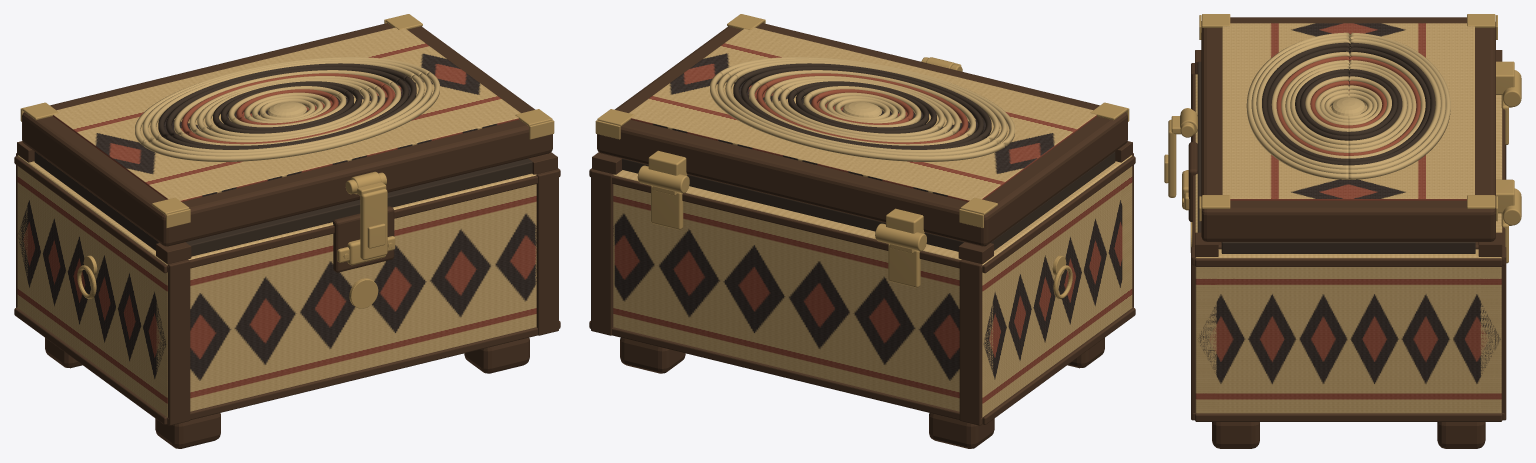
File: burundi.glb
The picture shows the model from 3 angles, left to right: view 1: azimuth 30°, elevation 25°; view 2: azimuth 150°, elevation 25°; view 3: azimuth 270°, elevation 25°; orthographic projection. The views are drawn at different scales.
Visible parts, largest first — view 1: Woven panel / front, Lid / polished slab, Lid / woven inset, Woven panel / side, Reveal / long, Frame / corner binding, Frame / corner binding.002, Frame / long binding, Lid coil / 00, Frame / long binding.002, Lid coil / 01, Lid coil / 02 (+23 smaller); view 2: Woven panel / rear, Lid / polished slab, Lid / woven inset, Woven panel / side, Frame / corner binding.001, Frame / corner binding.003, Frame / long binding.001, Lid coil / 00, Reveal / long.001, Frame / long binding.003, Lid coil / 01, Lid coil / 02 (+26 smaller); view 3: Woven panel / side.001, Lid / woven inset, Lid / polished slab, Woven panel / rear, Woven panel / front, Reveal / side.001, Lid coil / 00, Frame / end binding.001, Frame / end binding.003, Lid coil / 01, Lid coil / 02, Lid coil / 03 (+33 smaller).
Boxes of the visible parts, box(x1,y1,x2,y2) form: Woven panel / front: box(156, 173, 536, 417); Lid / polished slab: box(22, 23, 552, 246); Lid / woven inset: box(53, 27, 520, 201); Woven panel / side: box(17, 161, 189, 414); Reveal / long: box(185, 158, 532, 256); Frame / corner binding: box(167, 259, 190, 425); Frame / corner binding.002: box(536, 169, 558, 335); Frame / long binding: box(167, 327, 537, 424); Lid coil / 00: box(135, 57, 439, 161); Frame / long binding.002: box(167, 175, 537, 273); Lid coil / 01: box(142, 58, 432, 156); Lid coil / 02: box(150, 60, 424, 152); Woven panel / rear: box(613, 170, 993, 417); Lid / polished slab: box(597, 23, 1127, 246); Lid / woven inset: box(629, 27, 1096, 201); Woven panel / side: box(960, 161, 1122, 415); Frame / corner binding.001: box(959, 259, 982, 425); Frame / corner binding.003: box(591, 169, 613, 335); Frame / long binding.001: box(612, 327, 982, 424); Lid coil / 00: box(710, 57, 1014, 161); Reveal / long.001: box(622, 158, 964, 251); Frame / long binding.003: box(612, 175, 982, 273); Lid coil / 01: box(717, 58, 1007, 156); Lid coil / 02: box(725, 60, 999, 152); Woven panel / side.001: box(1195, 249, 1501, 413); Lid / woven inset: box(1222, 23, 1474, 200); Lid / polished slab: box(1201, 17, 1495, 241); Woven panel / rear: box(1480, 95, 1502, 413); Woven panel / front: box(1195, 74, 1216, 413); Reveal / side.001: box(1221, 242, 1475, 253); Lid coil / 00: box(1246, 32, 1450, 179); Frame / end binding.001: box(1195, 413, 1502, 421); Frame / end binding.003: box(1195, 258, 1502, 266); Lid coil / 01: box(1251, 35, 1445, 173); Lid coil / 02: box(1256, 39, 1440, 169); Lid coil / 03: box(1262, 42, 1435, 165).
Bounding box in the file's own units: 3.82 × 2.32 × 2.88.
Materials: 6 (1 with a texture image).
